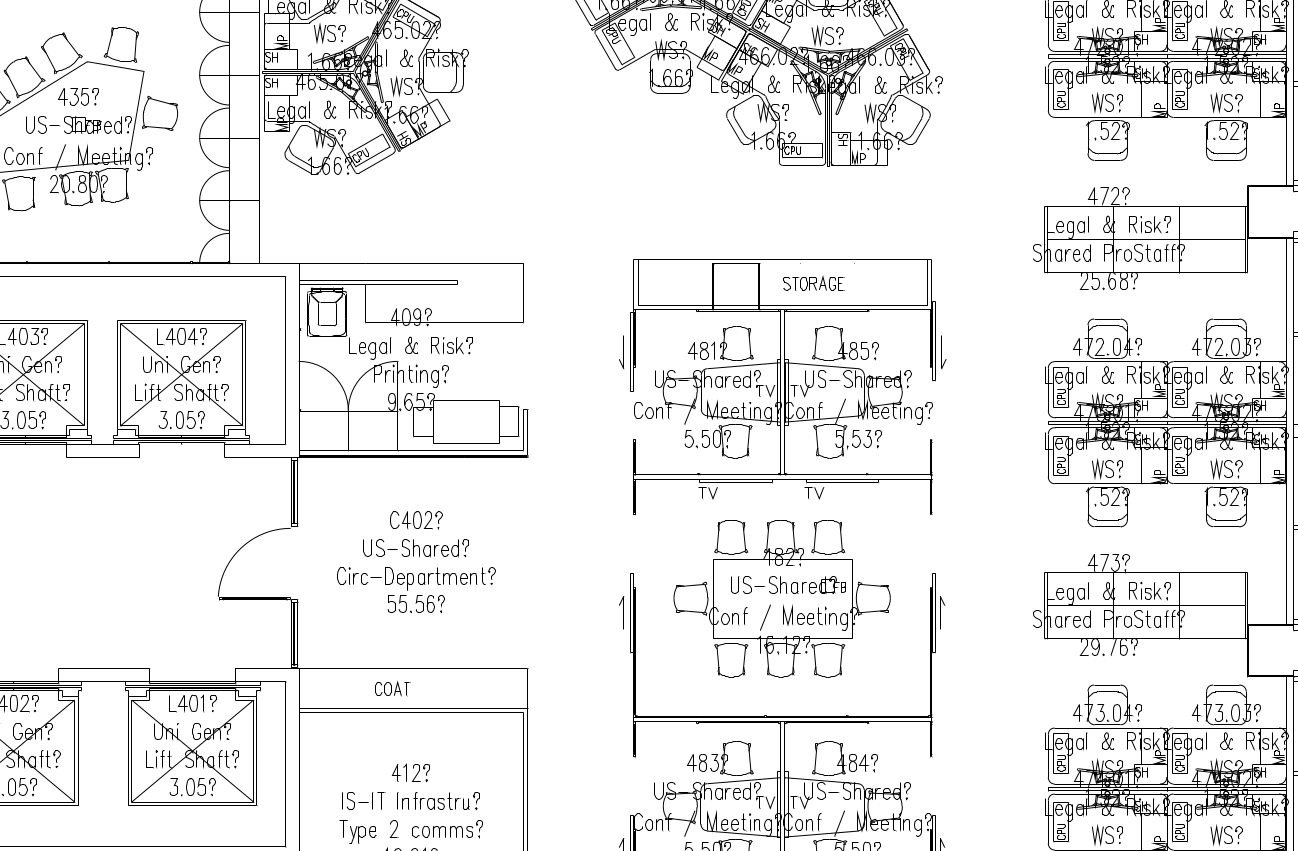door: (209, 520, 292, 608)
